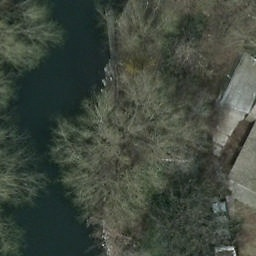car: (210, 201, 234, 240)
